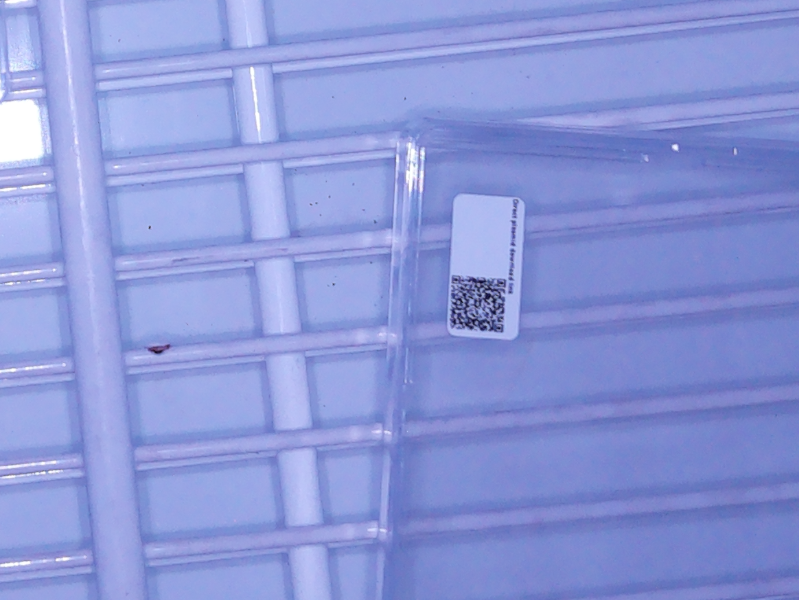plate: (373, 118, 799, 600)
